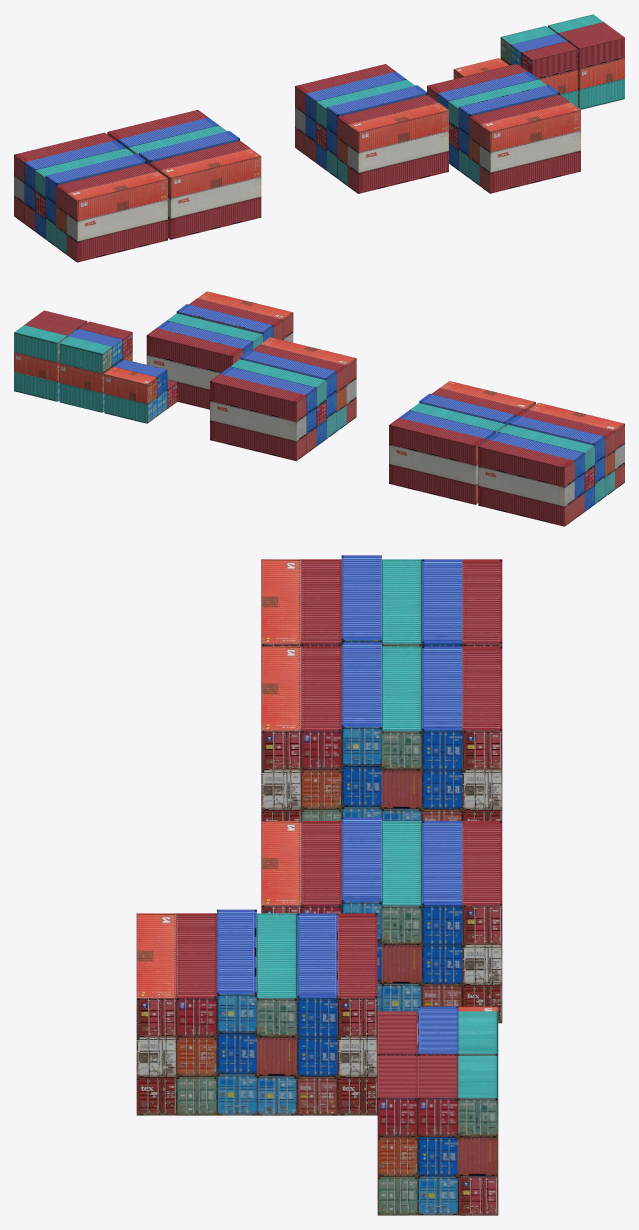
3 views of the same model, one above another, from view 1: azimuth 30°, elevation 25°; view 2: azimuth 150°, elevation 25°; view 3: azimuth 270°, elevation 25° (orthographic). The views are drawn at different scales.
Parts seen in each view (by area): view 1: DN112_c?m_container_1; view 2: DN112_c?m_container_1; view 3: DN112_c?m_container_1.
Part boxes in pixels (x1,y1,x2,y2): DN112_c?m_container_1: [14, 14, 624, 262]; DN112_c?m_container_1: [14, 291, 624, 526]; DN112_c?m_container_1: [136, 555, 502, 1215].
Bounding box in the file's own units: 76.54 × 8.05 × 21.98.
Materials: 1 (1 with a texture image).
